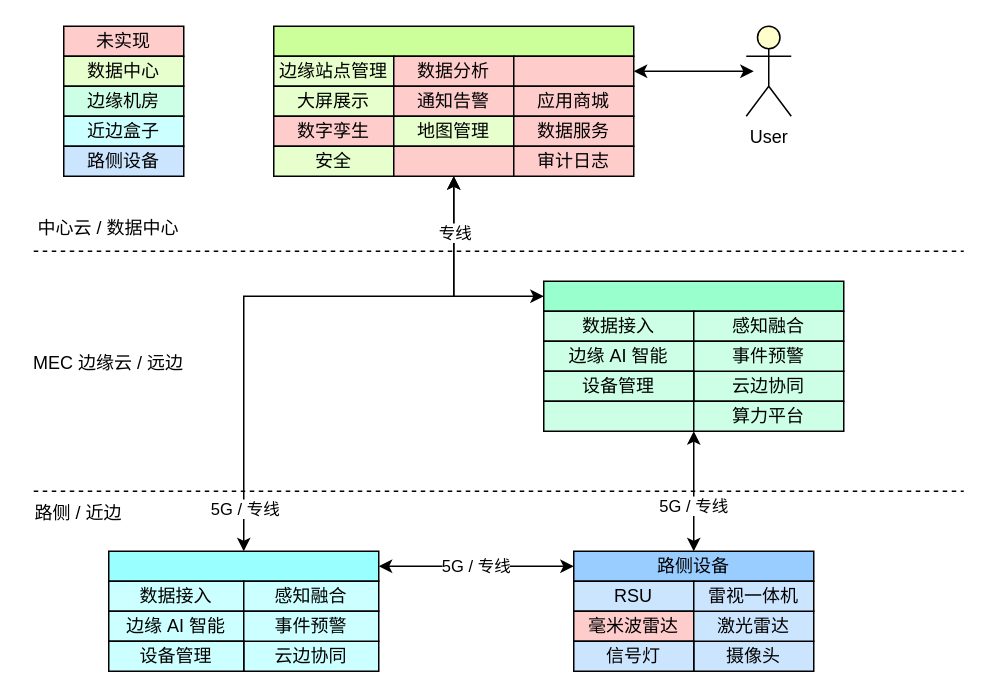
This 992x698 diagram has some shape labels left out. The shapes that lost their labels are listed below. From the top down, each one's box as (x1, y1, x2, y2) in pixels, then its label:
(272, 25, 634, 56): OpenV2X 中心云
(512, 55, 634, 86): 算法引擎
(392, 145, 514, 176): 计费
(542, 280, 844, 311): OpenV2X MEC 边缘云（多路口）
(542, 400, 694, 431): 路口管理
(107, 550, 379, 581): OpenV2X 近边缘节点（单路口）
